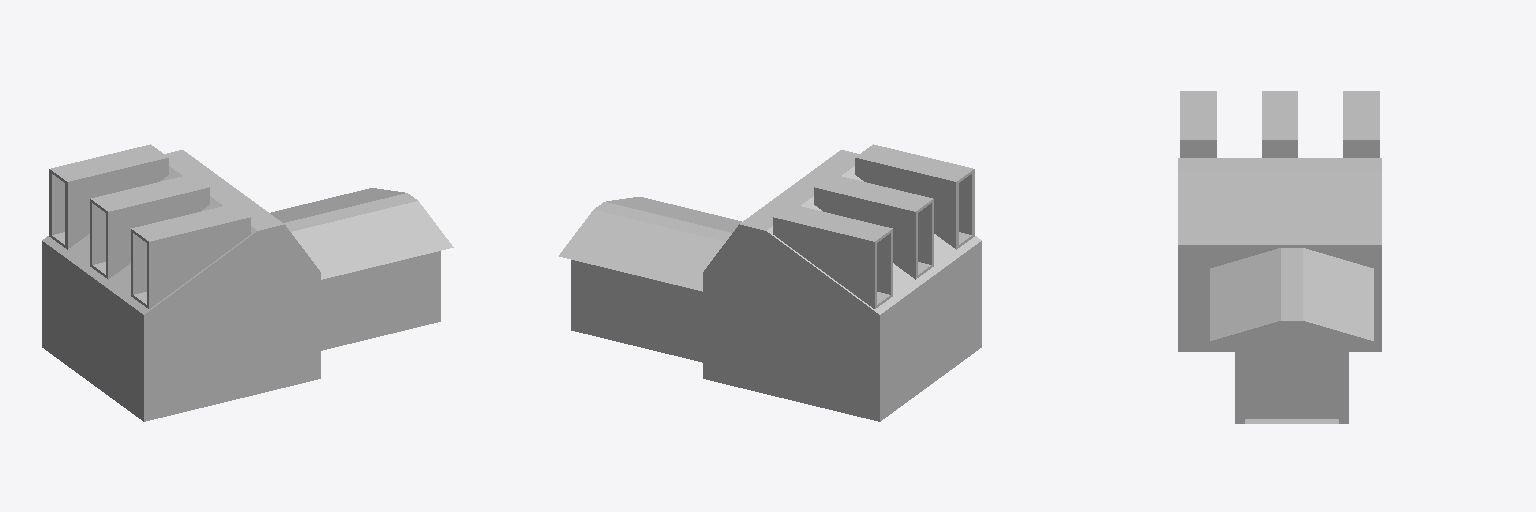
Rendered from facility_1.obj.
The picture shows the model from 3 angles: view 1: azimuth 30°, elevation 25°; view 2: azimuth 150°, elevation 25°; view 3: azimuth 270°, elevation 25°; orthographic projection.
Visible parts, largest first — view 1: Cube.004; view 2: Cube.004; view 3: Cube.004.
Part boxes in pixels (x1,y1,x2,y2): Cube.004: (42, 144, 453, 421); Cube.004: (559, 144, 981, 421); Cube.004: (1178, 91, 1381, 423).
Bounding box in the file's own units: 3.69 × 1.92 × 2.